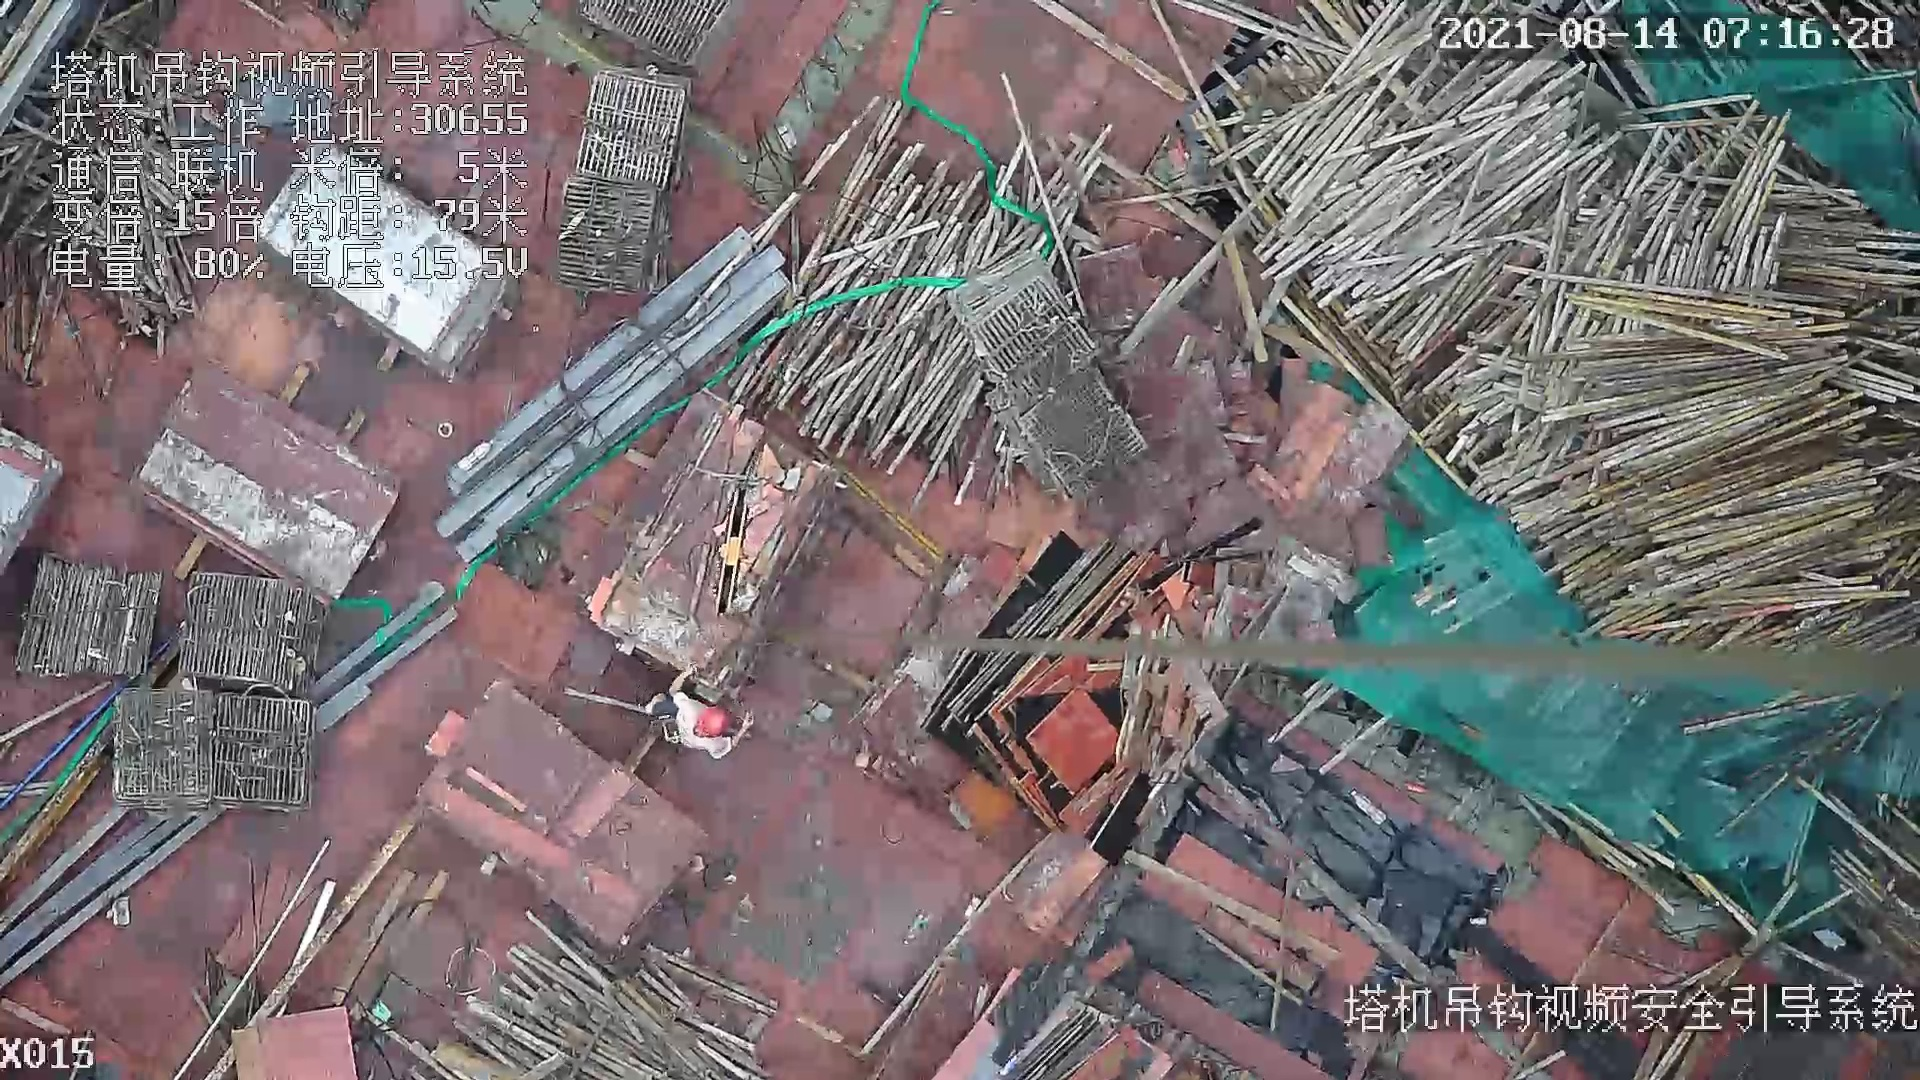helmet: (692, 704, 732, 737)
hook: (713, 486, 754, 619)
person: (650, 655, 762, 749)
